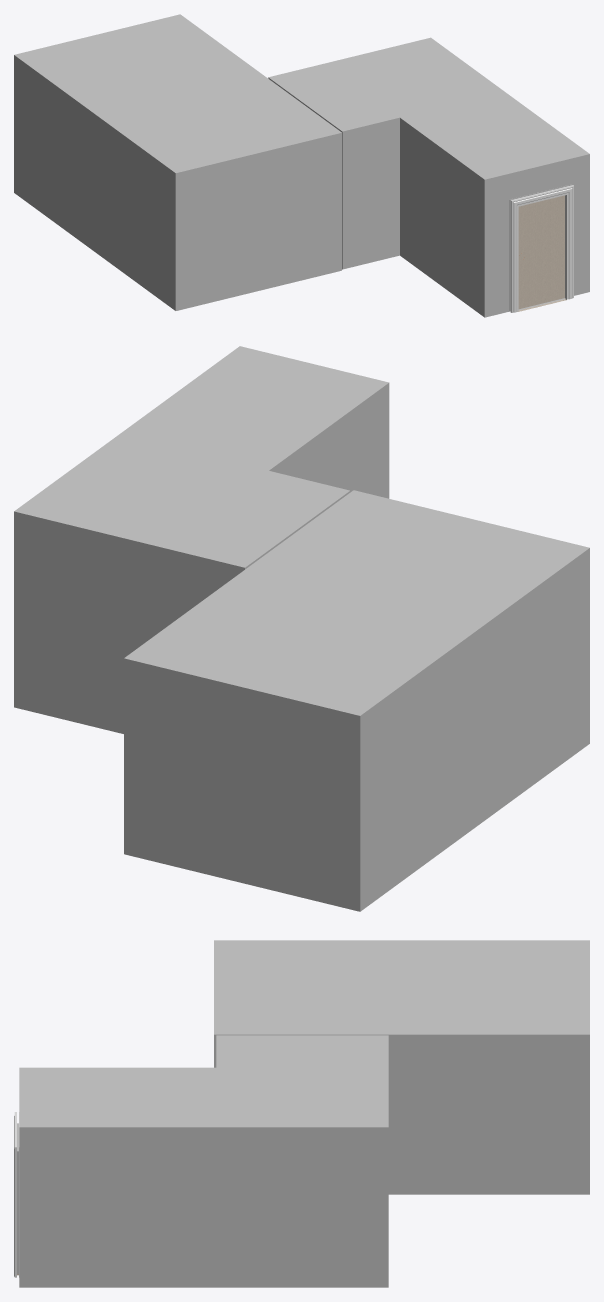
Rendered from Walls_and_Door_Sec 1_V2.FBX.
3 views of the same model, one above another, from view 1: azimuth 30°, elevation 25°; view 2: azimuth 150°, elevation 25°; view 3: azimuth 270°, elevation 25° (orthographic). The views are drawn at different scales.
Visible parts, largest first — view 1: Plane028, Box459, Doorframe; view 2: Plane028; view 3: Plane028, Doorframe.
Part boxes in pixels (x1,y1,x2,y2): Plane028: (14, 14, 589, 317); Box459: (517, 195, 566, 311); Doorframe: (509, 185, 573, 312); Plane028: (14, 346, 589, 911); Plane028: (17, 940, 589, 1287); Doorframe: (14, 1112, 19, 1277).
Bounding box in the file's own units: 30808 × 12405 × 40041.
